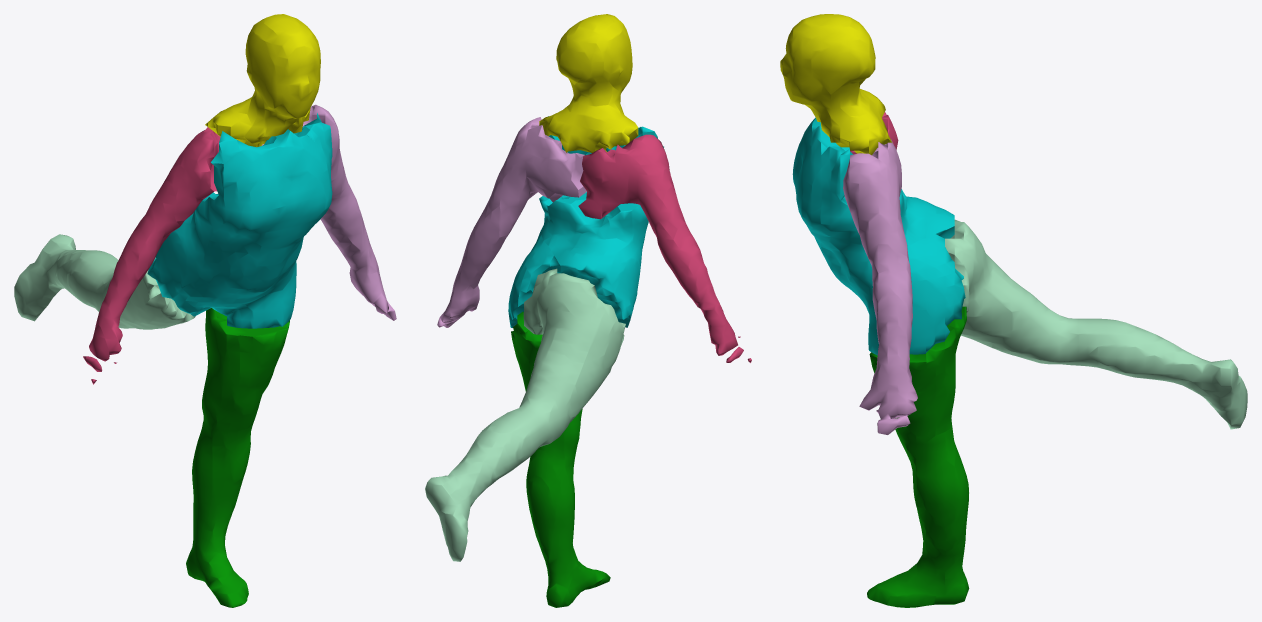
File: human_local.glb
3 renders of one model, left to right at view 1: azimuth 30°, elevation 25°; view 2: azimuth 150°, elevation 25°; view 3: azimuth 270°, elevation 25°, orthographic. The views are drawn at different scales.
Bounding box in the file's own units: 0.3376 × 0.5963 × 0.4254.
